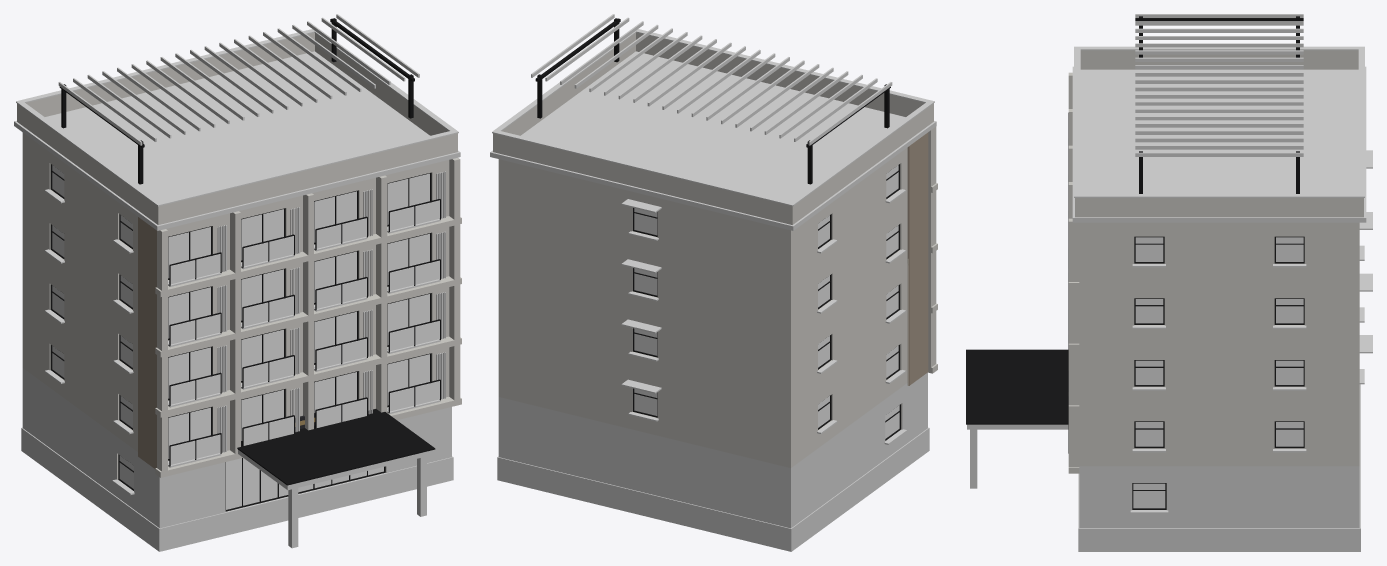
The model's file is hotel_16x13_5.glb.
3 views of the same model, side by side, from view 1: azimuth 30°, elevation 25°; view 2: azimuth 150°, elevation 25°; view 3: azimuth 270°, elevation 25° (orthographic). The views are drawn at different scales.
Visible parts, largest first — view 1: hotel_16x13_5; view 2: hotel_16x13_5; view 3: hotel_16x13_5.
Boxes of the visible parts, box(x1,y1,x2,y2) form: hotel_16x13_5: box(14, 14, 461, 551); hotel_16x13_5: box(490, 14, 937, 551); hotel_16x13_5: box(966, 14, 1372, 551).
Bounding box in the file's own units: 16.6 × 20.24 × 18.86.
